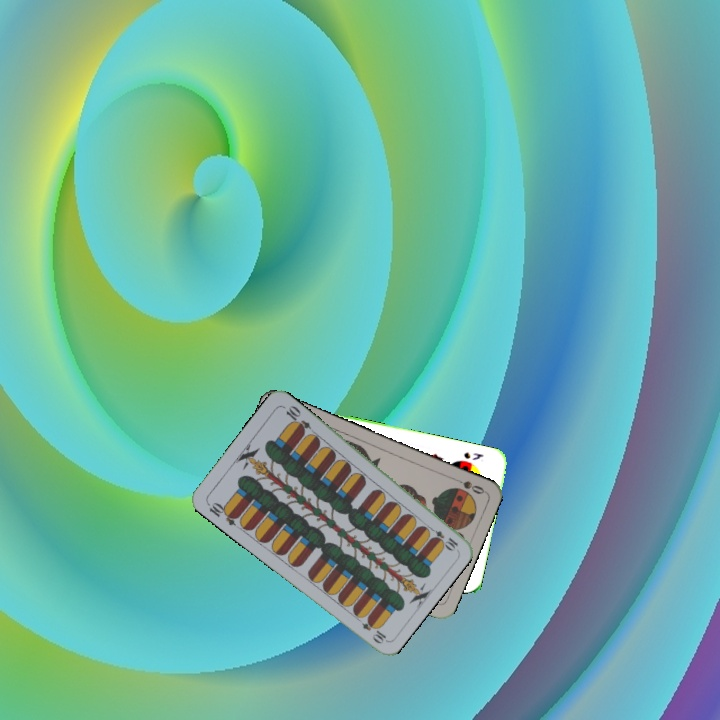E10: (203, 498, 241, 528), (424, 522, 461, 552)
SK: (460, 448, 486, 463)
SO: (448, 473, 487, 497)
